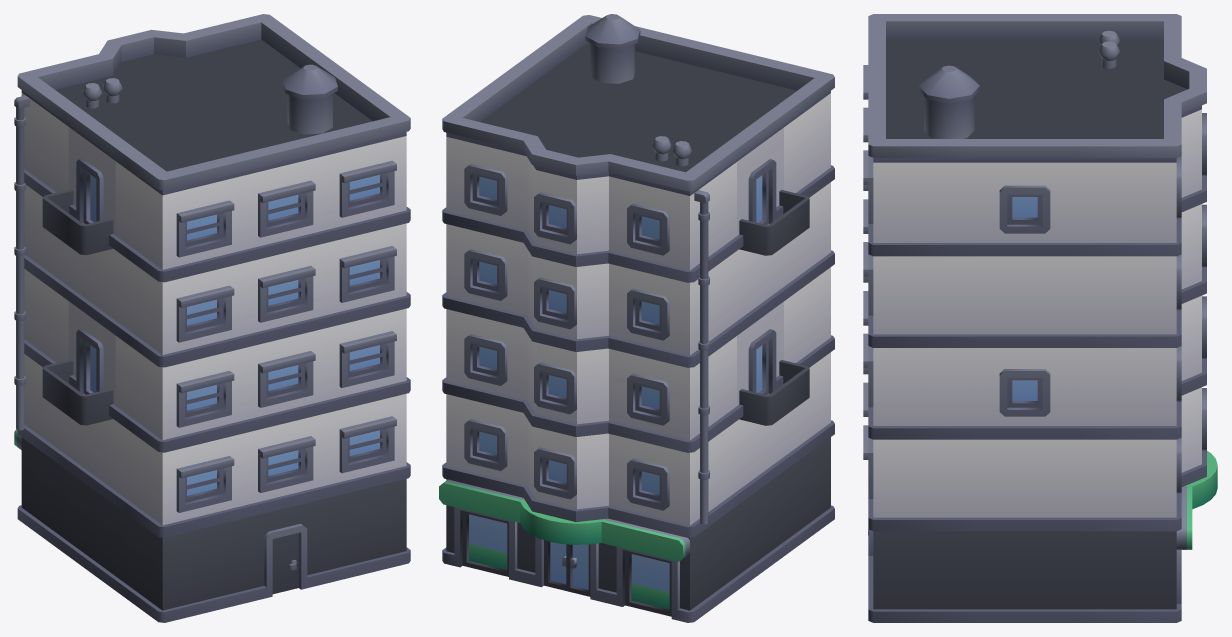
The model's file is commercial-building-l.glb.
3 views of the same model, side by side, from view 1: azimuth 30°, elevation 25°; view 2: azimuth 150°, elevation 25°; view 3: azimuth 270°, elevation 25° (orthographic). The views are drawn at different scales.
Visible parts, largest first — view 1: building-l; view 2: building-l; view 3: building-l.
Part boxes in pixels (x1,y1,x2,y2): building-l: [14, 14, 410, 622]; building-l: [439, 14, 834, 622]; building-l: [863, 14, 1217, 622].
Size of the model in its own units: 1.37 by 2.27 by 1.4.
1 material, 1 textured.
